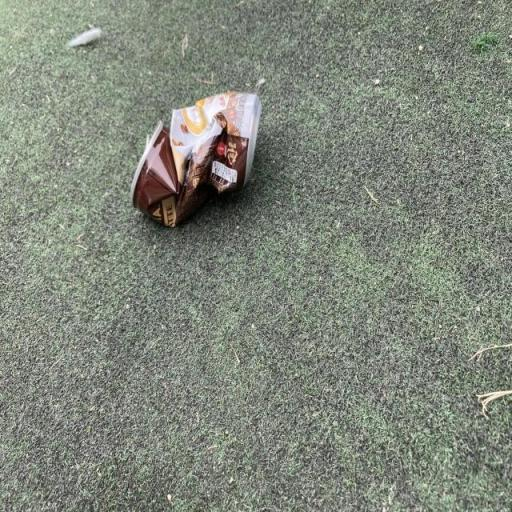metal: (99, 56, 252, 242)
